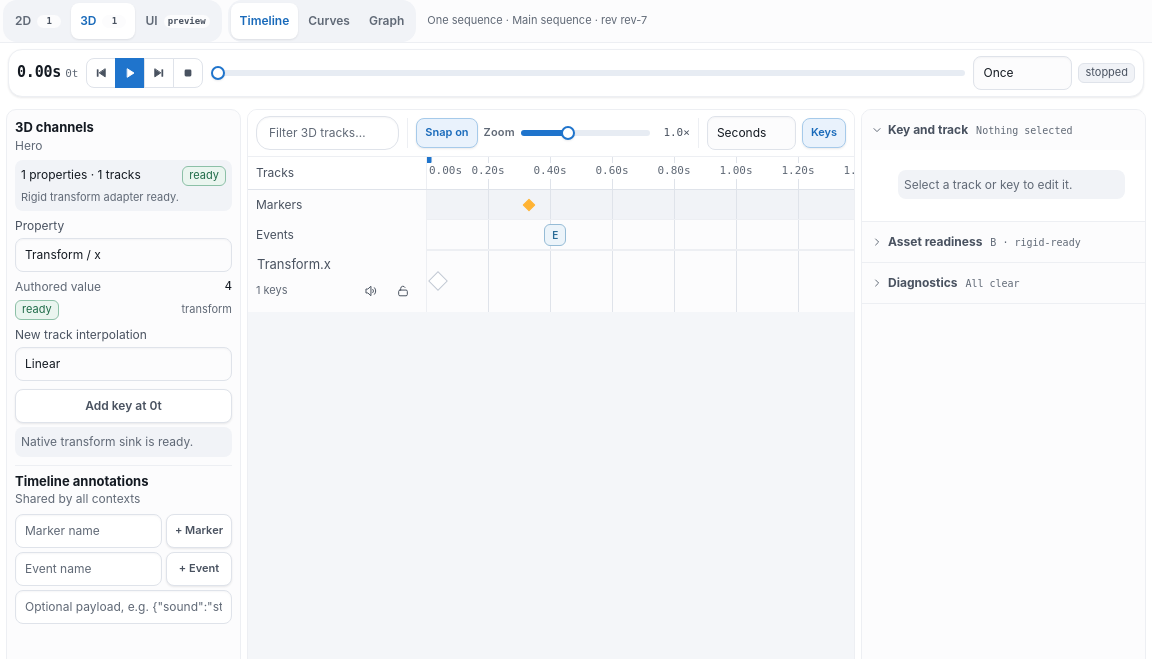
Test: lists ambiguous stale instances by stable identity and lets the user repair or discard each one
The image size is (1152, 659).
Expected: the element with test id "animation-context-readiness" is shown, [15,160,232,211]
Click the text "Asset readiness": [935, 242] box [888,235,982,250]
(page scrolled)
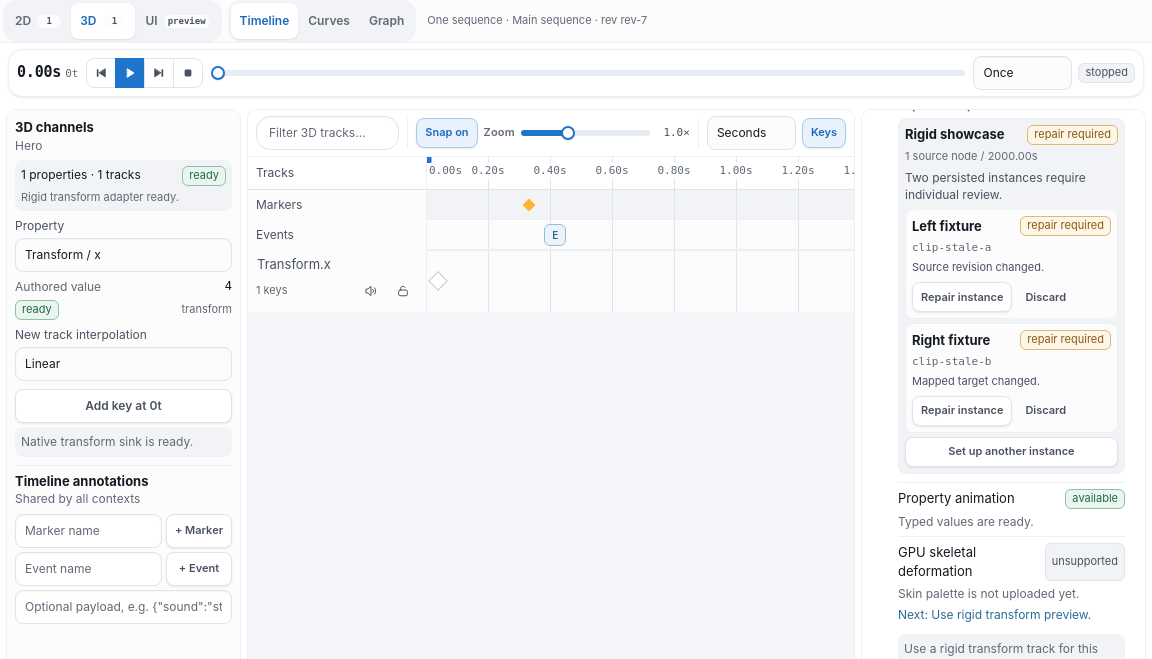
Now the number of elements with test id "animation-clip-instance-option" is 2, box [905,209,1118,319]; [905,323,1118,433]
Now the element with test id "animation-clip-instance-option" shows "clip-stale-a", box [912,241,992,254]
Now the element with test id "animation-clip-instance-option" shows "clip-stale-b", box [912,355,992,368]
Click the button with test id "animation-clip-repair-instance-clip-stale-b": [962, 411] box [912,396,1012,426]
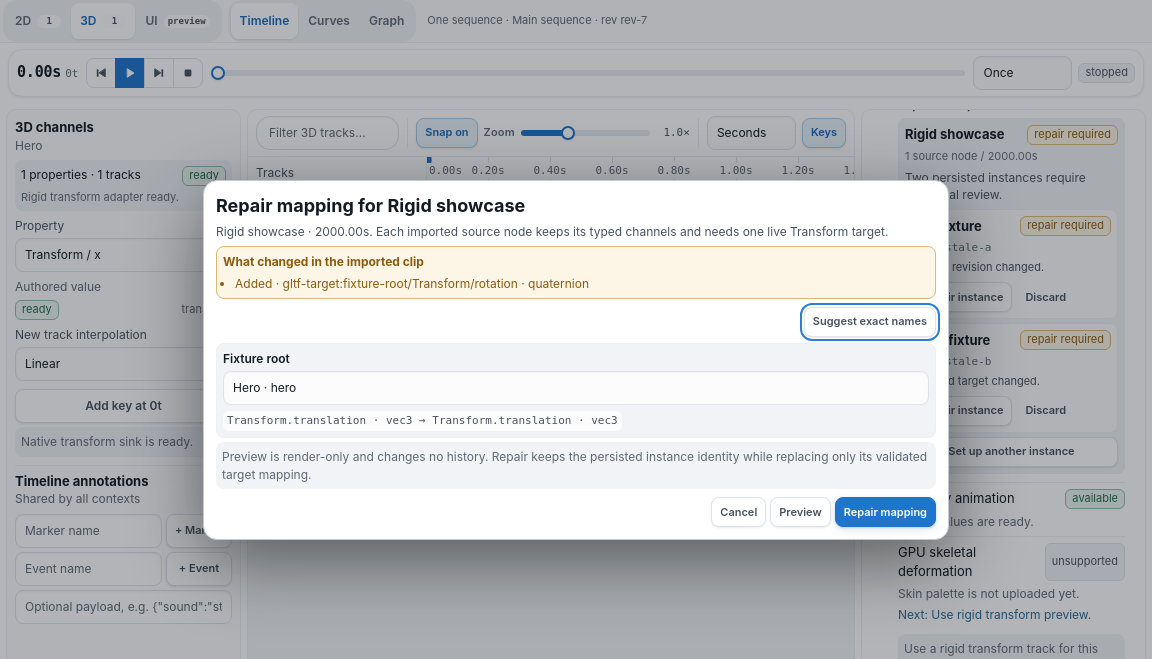
Now the element with test id "animation-clip-repair-changes" shows "Added · gltf-target:fixture-root/Transform/rotation · quaternion", box [235,276,589,291]
Click the button with test id "animation-clip-confirm": [885, 512] box [835,497,936,527]
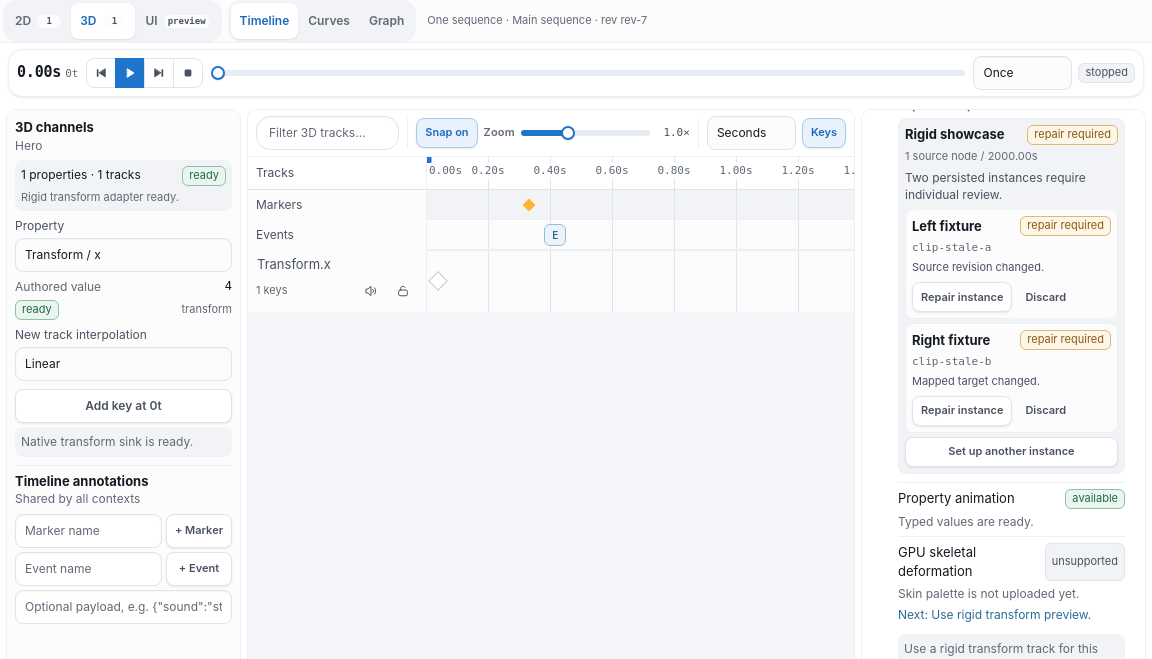
Click the button with test id "animation-clip-discard-clip-stale-a": [1046, 297] box [1016,282,1075,312]
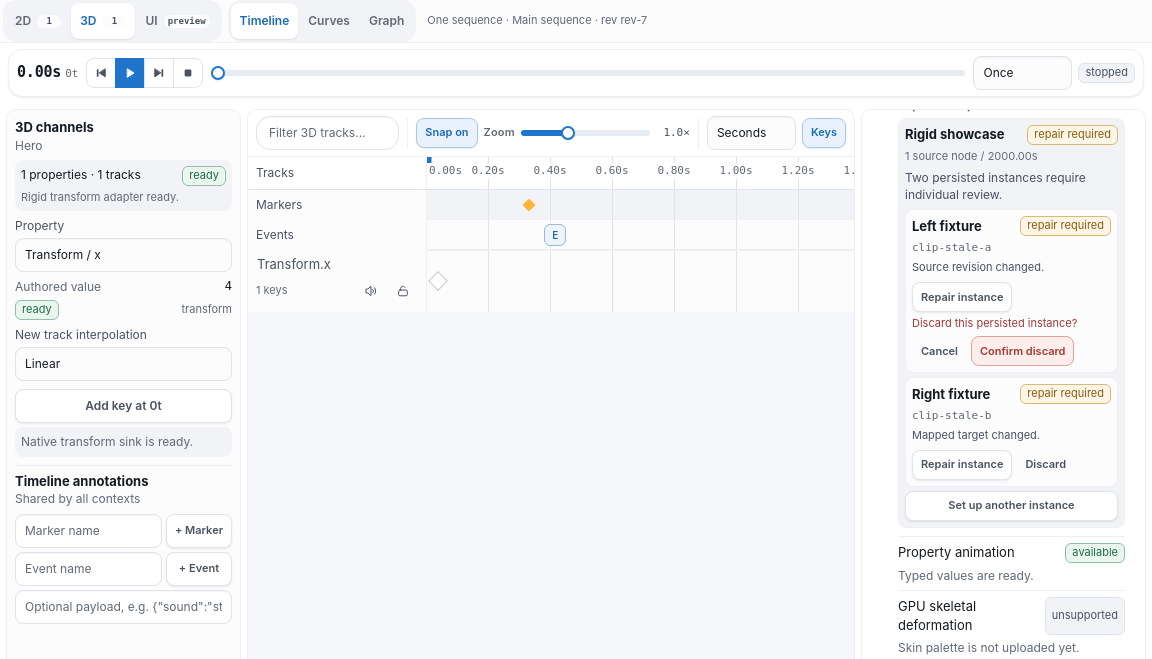
Now the message reads "Discard this persisted instance?", box [912,316,1077,330]
Click the button with test id "animation-clip-discard-confirm-clip-stale-a": [1023, 351] box [971,336,1074,366]
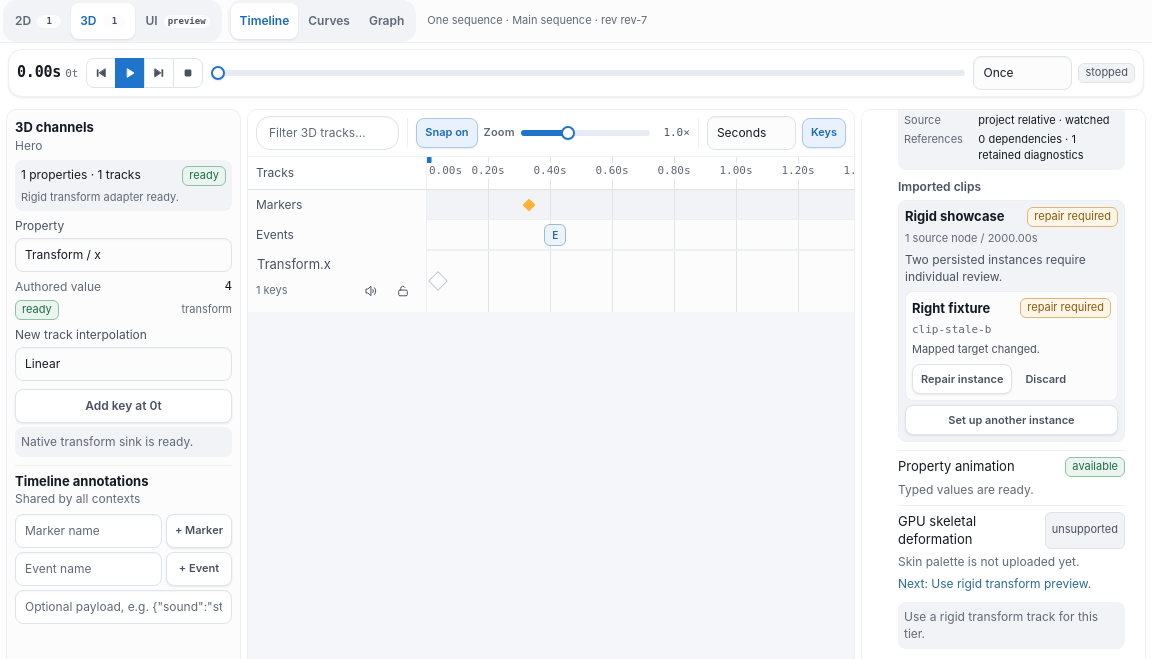
Now the element with test id "animation-clip-instance-option" shows "clip-stale-b", box [912,323,992,336]
Now the number of elements with test id "animation-clip-instance-option" is 1, box [905,291,1118,401]
